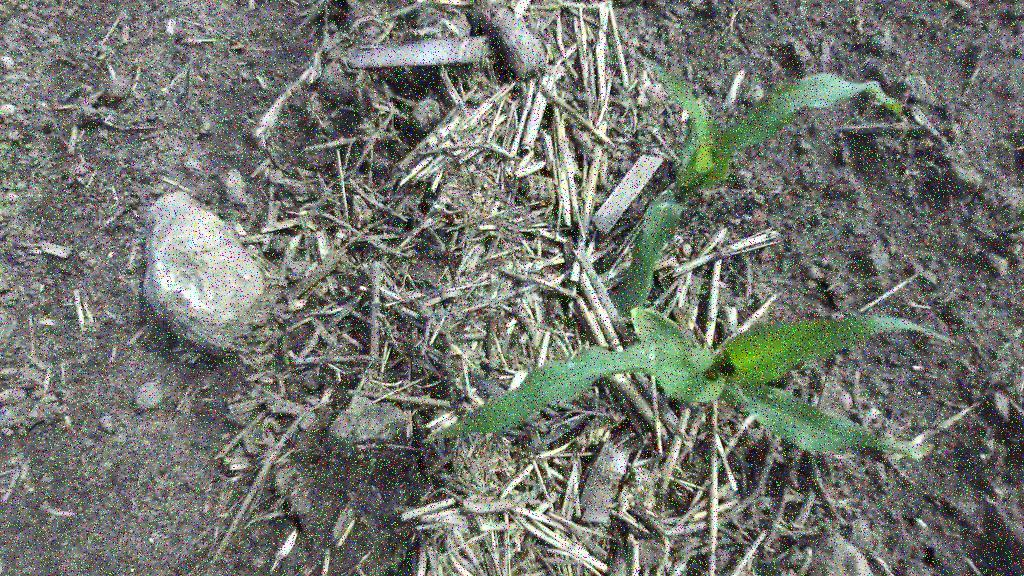BroWeed: (262, 527, 303, 575), (419, 411, 460, 447), (880, 448, 916, 484), (777, 248, 803, 273), (217, 485, 234, 509), (621, 96, 639, 117), (0, 149, 12, 174), (0, 180, 16, 193), (932, 495, 945, 510), (1010, 241, 1023, 256), (697, 285, 711, 297), (902, 168, 919, 177), (980, 438, 995, 448), (0, 141, 16, 150), (281, 353, 291, 367), (367, 456, 377, 468), (977, 451, 987, 462), (16, 135, 25, 147), (728, 545, 741, 553), (294, 195, 308, 202), (4, 298, 16, 306), (0, 351, 13, 357), (473, 359, 481, 368), (635, 131, 643, 140), (1002, 341, 1012, 348), (1014, 329, 1022, 337)
Maize: (599, 46, 914, 348), (437, 301, 968, 460)
NarWeed: (891, 395, 981, 463)
